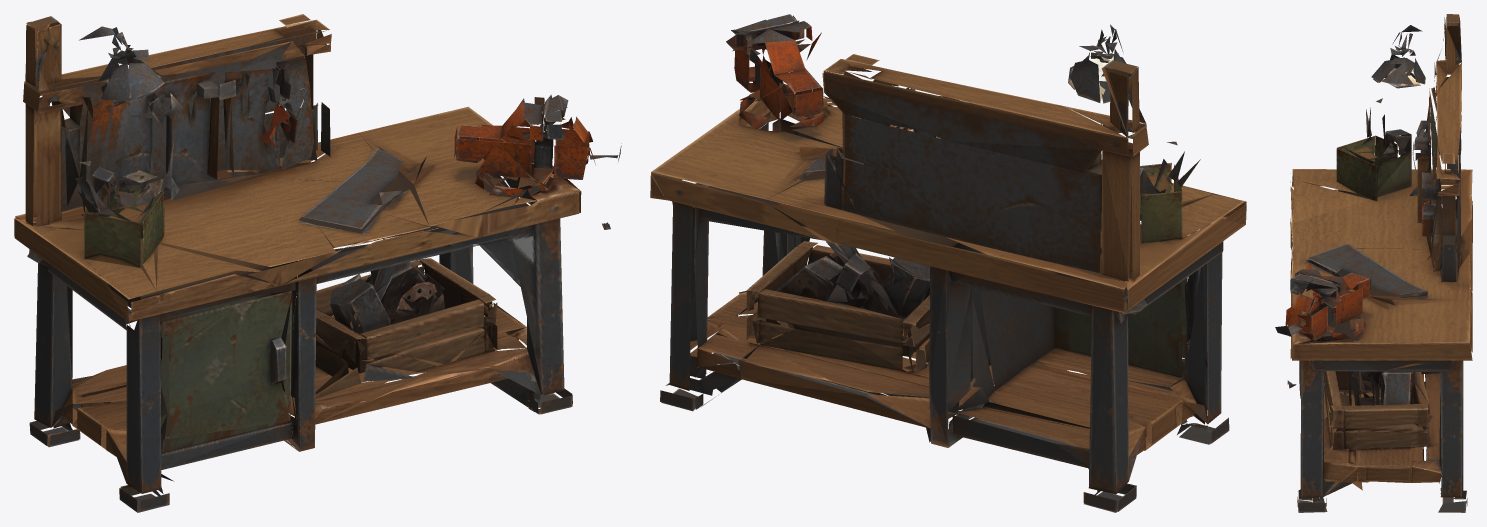
File: workbench_lod2.glb
3 views of the same model, side by side, from view 1: azimuth 30°, elevation 25°; view 2: azimuth 150°, elevation 25°; view 3: azimuth 270°, elevation 25° (orthographic). The views are drawn at different scales.
Parts seen in each view (by area): view 1: LOD2; view 2: LOD2; view 3: LOD2.
Boxes of the visible parts, x1=… form: LOD2: x1=14, y1=14, x2=621, y2=512; LOD2: x1=650, y1=14, x2=1246, y2=512; LOD2: x1=1275, y1=14, x2=1472, y2=512.
Bounding box in the file's own units: 1.82 × 1.51 × 0.7985.
Materials: 1 (1 with a texture image).
